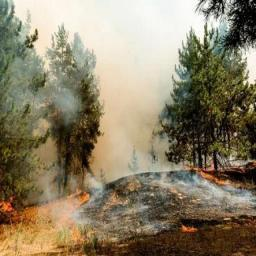Low smoke: (0, 23, 254, 228)
Small fire: (1, 166, 241, 220)
